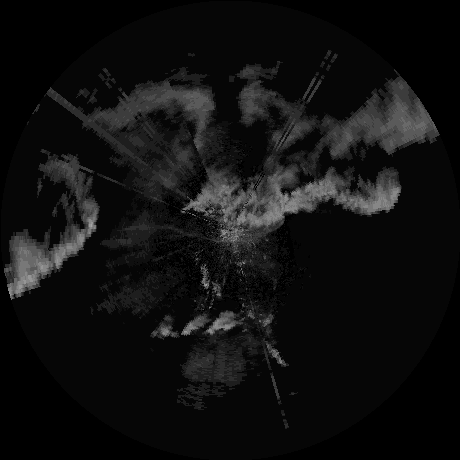frontgust: (117, 223, 225, 242)
